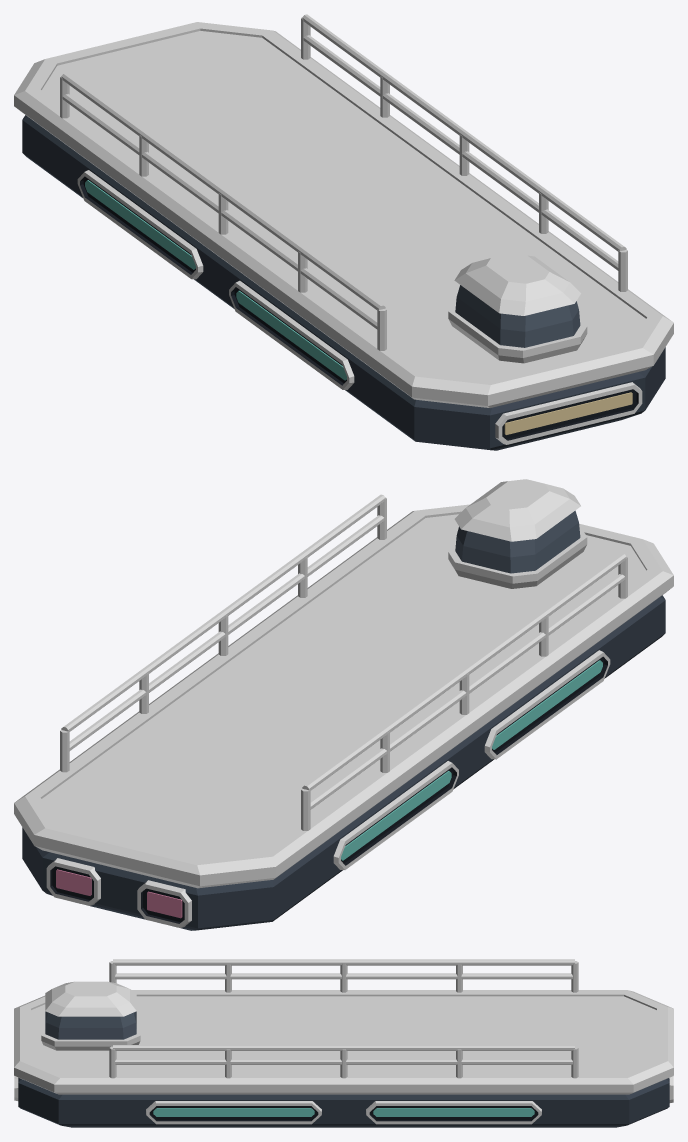
Rendered from hover-cargo-skiff-cb5a8f.glb.
The picture shows the model from 3 angles, top to bottom: view 1: azimuth 30°, elevation 25°; view 2: azimuth 150°, elevation 25°; view 3: azimuth 270°, elevation 25°; orthographic projection. The views are drawn at different scales.
Parts seen in each view (by area): view 1: hover-cargo-skiff, blister, rail-r, rail-l; view 2: hover-cargo-skiff, blister, rail-r, rail-l; view 3: hover-cargo-skiff, rail-r, rail-l, blister.
Boxes of the visible parts, bbox=[...] form: hover-cargo-skiff: bbox=[14, 22, 673, 450]; blister: bbox=[448, 253, 587, 363]; rail-r: bbox=[60, 73, 386, 350]; rail-l: bbox=[301, 14, 627, 291]; hover-cargo-skiff: bbox=[14, 504, 673, 930]; blister: bbox=[448, 479, 587, 588]; rail-r: bbox=[301, 553, 627, 830]; rail-l: bbox=[60, 494, 386, 772]; hover-cargo-skiff: bbox=[14, 990, 673, 1127]; rail-r: bbox=[109, 959, 578, 992]; rail-l: bbox=[109, 1045, 578, 1078]; blister: bbox=[41, 981, 140, 1050].
Bounding box in the file's own units: 3 × 1.5 × 9.
